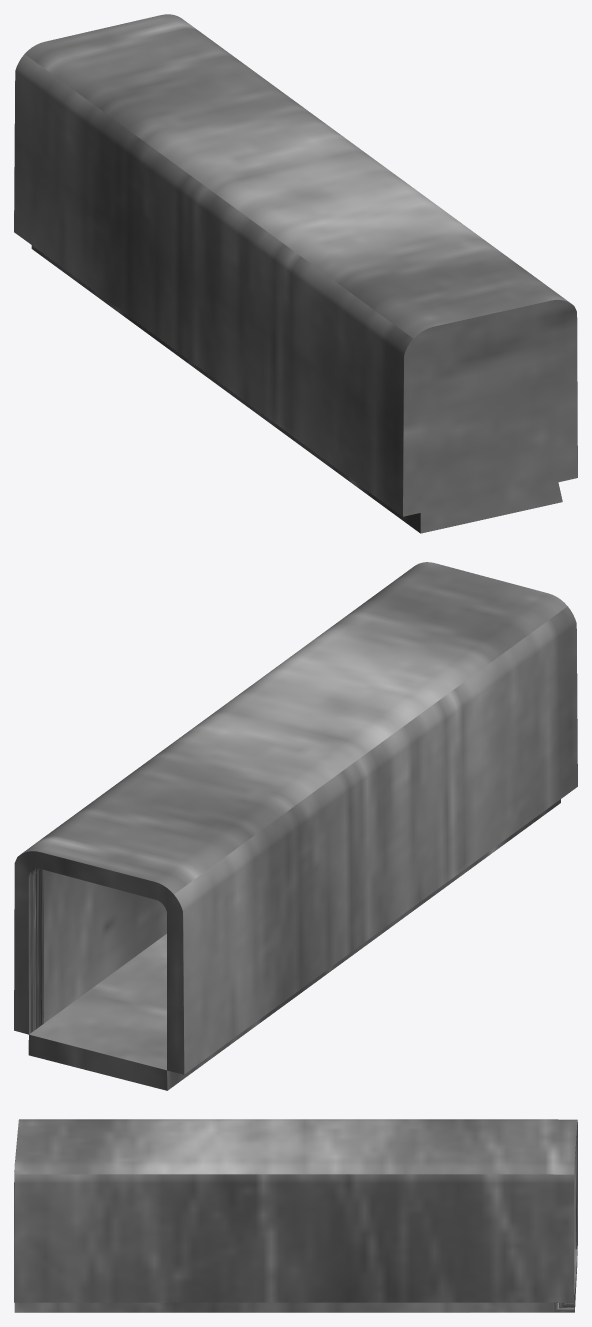
The model's file is Tiny Part of level.fbx.
The picture shows the model from 3 angles, top to bottom: view 1: azimuth 30°, elevation 25°; view 2: azimuth 150°, elevation 25°; view 3: azimuth 270°, elevation 25°; orthographic projection. The views are drawn at different scales.
Visible parts, largest first — view 1: Plane.005; view 2: Plane.005; view 3: Plane.005.
Part boxes in pixels (left/top/right/bottom): Plane.005: left=14, top=14, right=577, bottom=533; Plane.005: left=14, top=562, right=577, bottom=1090; Plane.005: left=14, top=1119, right=577, bottom=1312.
Size of the model in its own units: 139 by 159 by 553.
